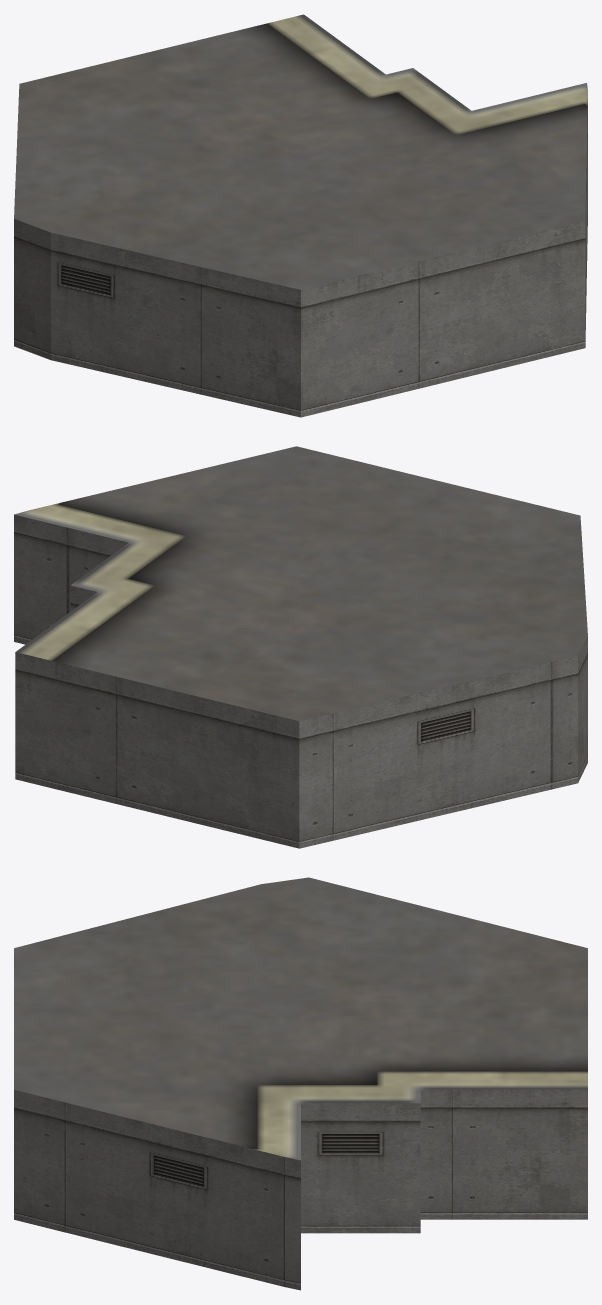
Rendered from building_medium_61.glb.
3 views of the same model, one above another, from view 1: azimuth 30°, elevation 25°; view 2: azimuth 150°, elevation 25°; view 3: azimuth 270°, elevation 25° (orthographic). The views are drawn at different scales.
Parts seen in each view (by area): view 1: buildings/saxarba/building_medium/building_medium_61; view 2: buildings/saxarba/building_medium/building_medium_61; view 3: buildings/saxarba/building_medium/building_medium_61.
Part boxes in pixels (left/top/right/bottom): buildings/saxarba/building_medium/building_medium_61: left=14, top=14, right=587, bottom=417; buildings/saxarba/building_medium/building_medium_61: left=14, top=446, right=587, bottom=848; buildings/saxarba/building_medium/building_medium_61: left=14, top=877, right=587, bottom=1290.
Size of the model in its own units: 84 by 18 by 72.
